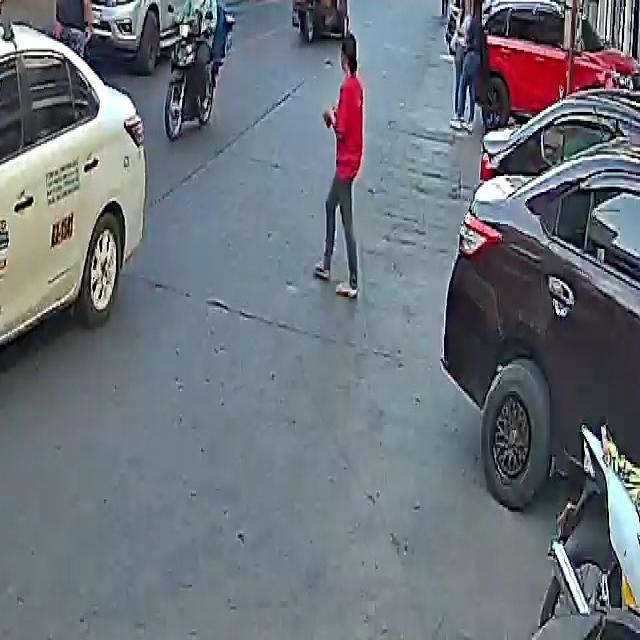car: (444, 73, 640, 532), (0, 0, 157, 471), (476, 0, 637, 121), (66, 0, 203, 69)
